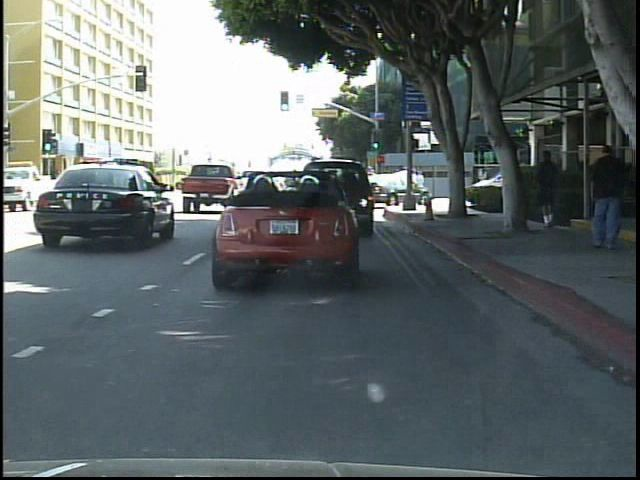person: (585, 141, 635, 260), (530, 146, 570, 236), (136, 174, 154, 201)
